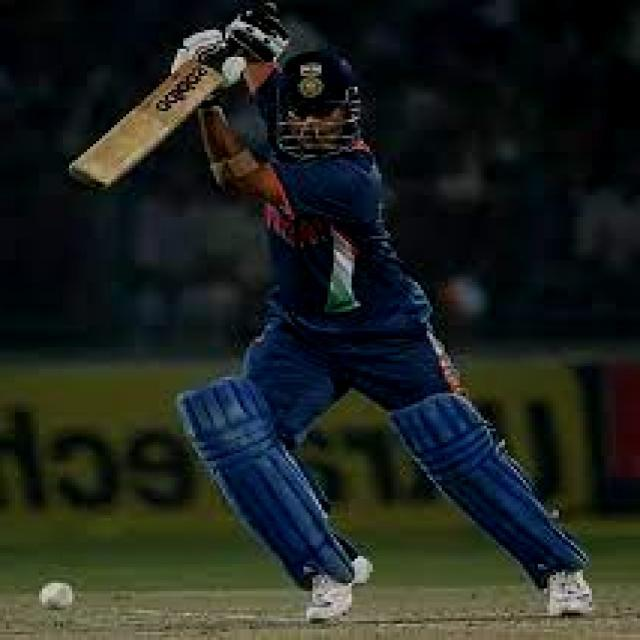bat: (61, 63, 214, 200), (61, 168, 116, 196)
